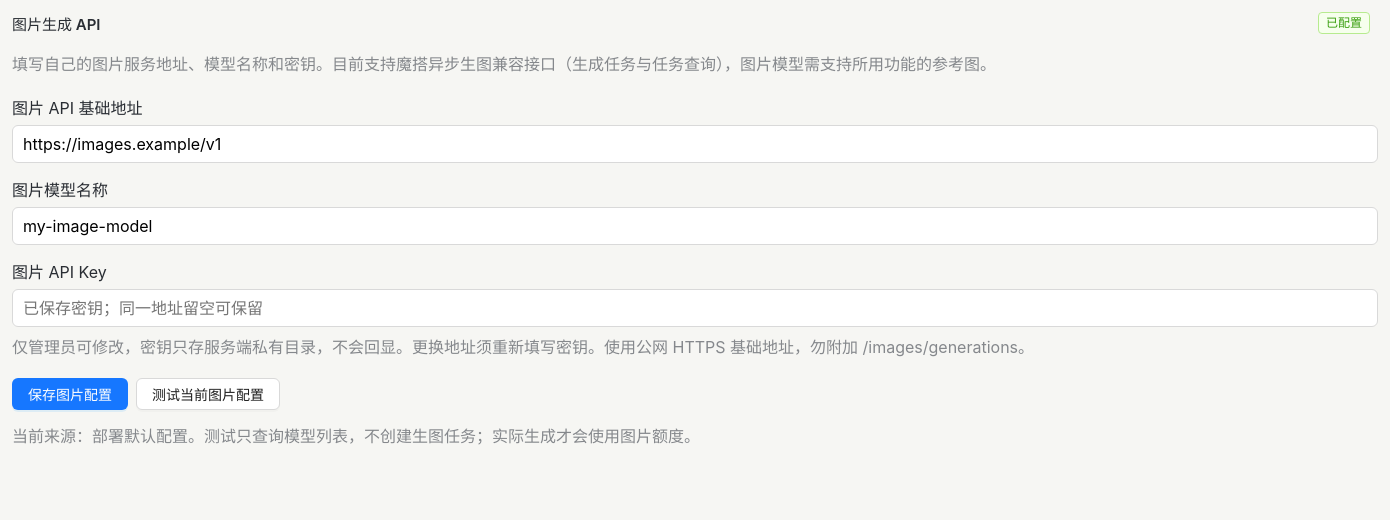
连接测试不创建生图任务，并说明目录检查的边界
Expected: the field showing "https://images.example/v1" is shown, [12,125,1378,163]
Click the button "测试当前图片配置" at (208, 394), box [136,378,280,410]
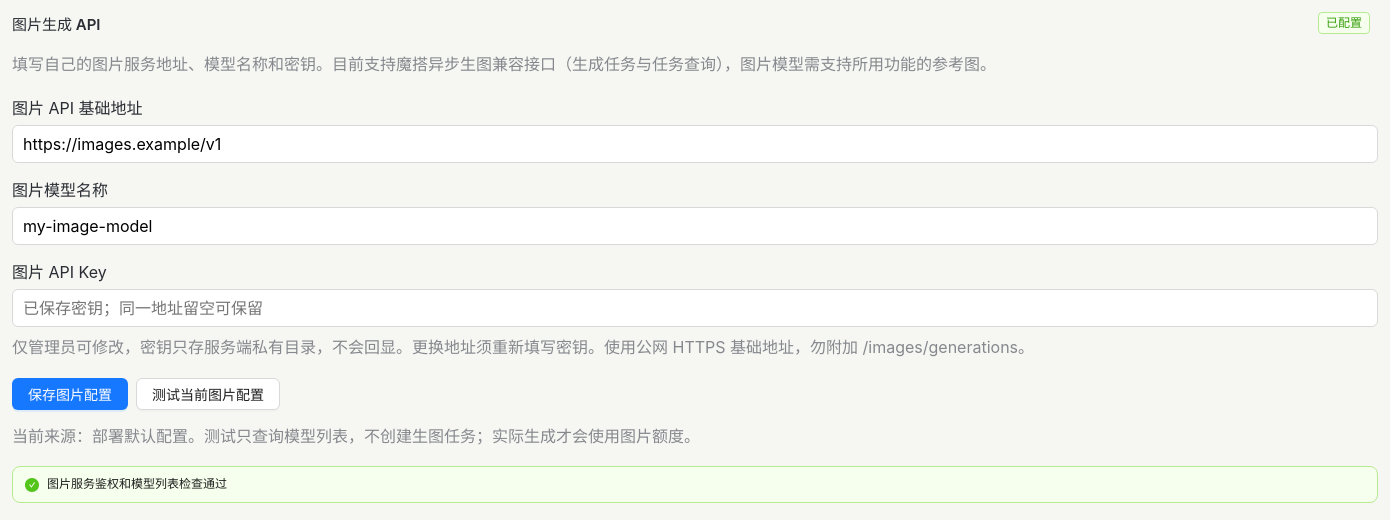
Expected: the text "当前来源：部署默认配置。测试只查询模型列表，不创建生图任务；实际生成才会使用图片额度。" is shown, [12,426,700,446]
Expected: the text "图片服务鉴权和模型列表检查通过" is shown, [47,476,227,491]
